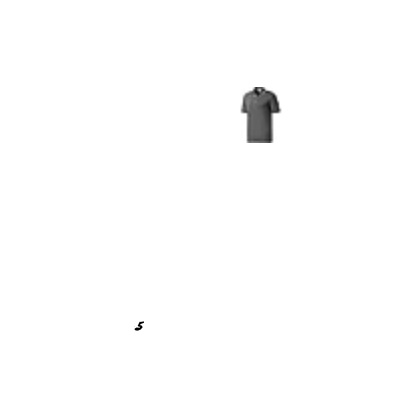5: (132, 319, 146, 333)
T-shirt/top: (233, 87, 289, 143)
